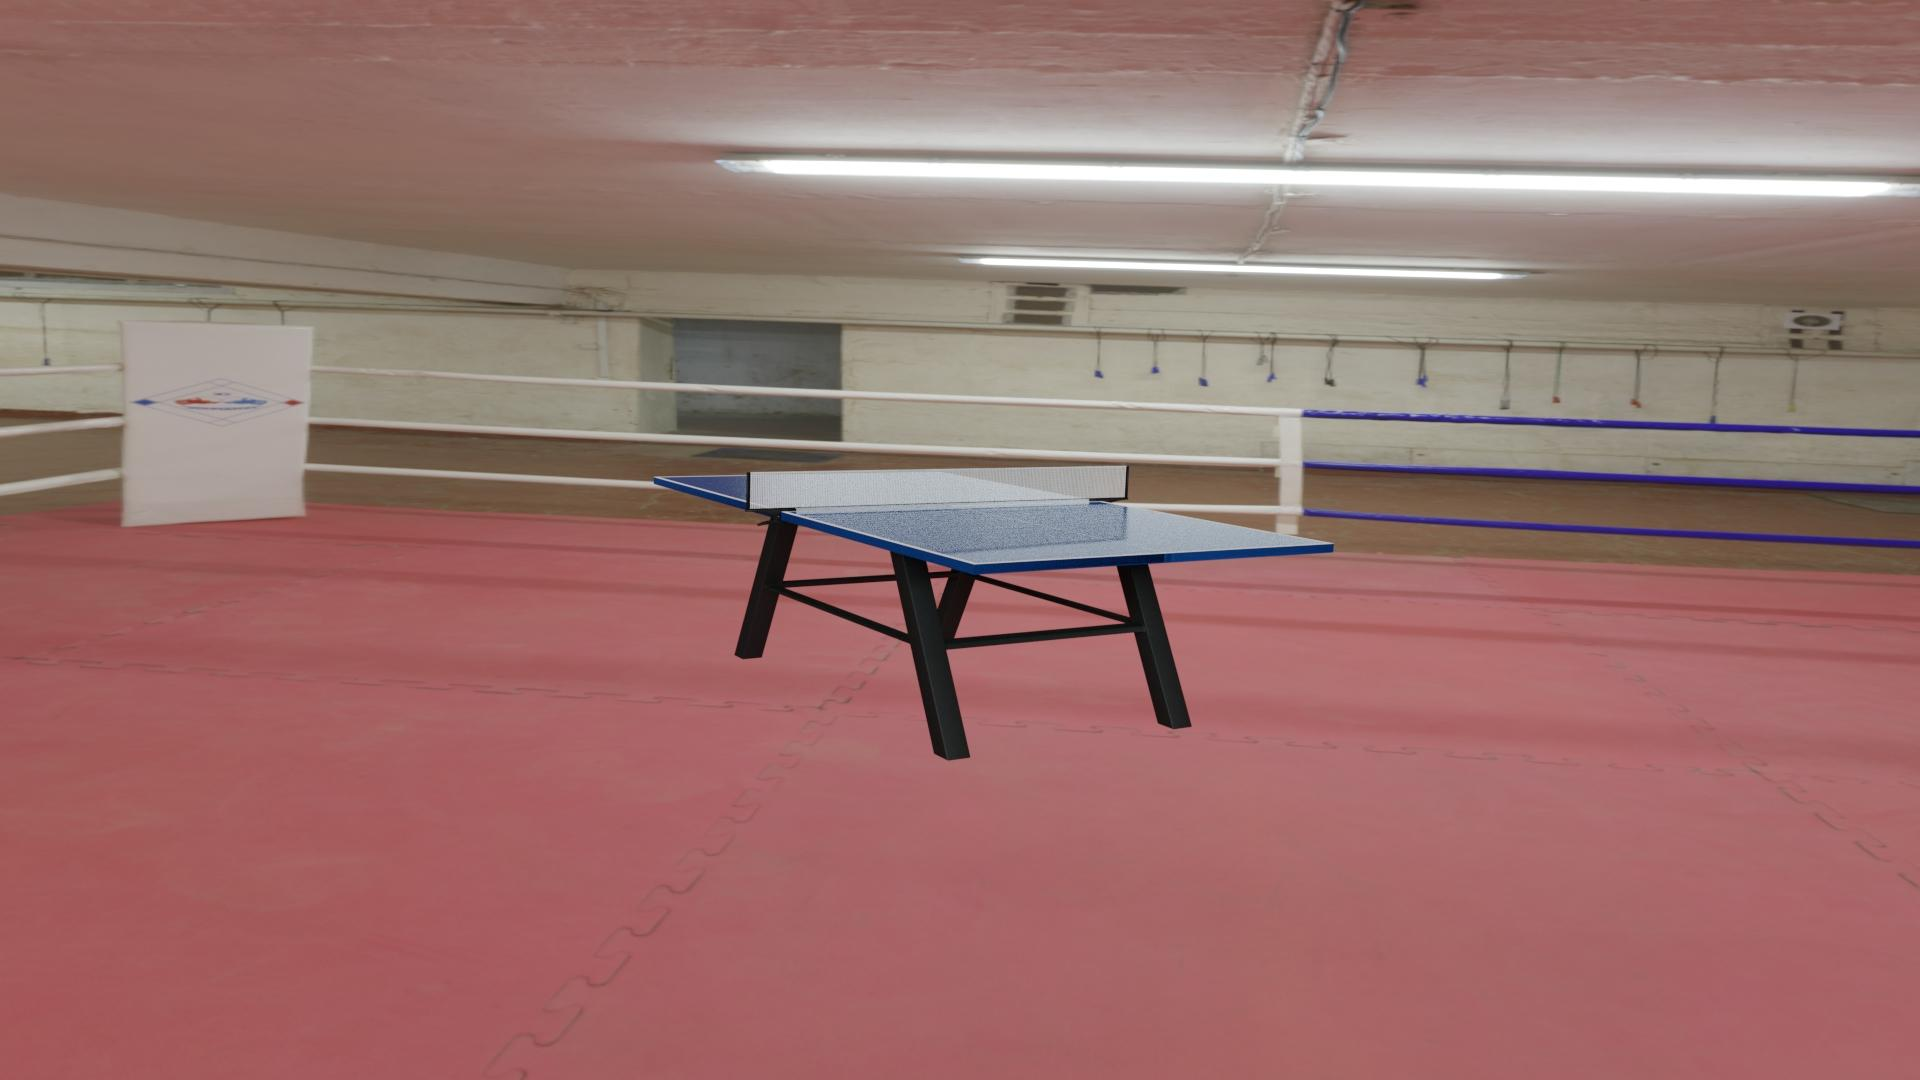table: (659, 472, 1327, 563)
